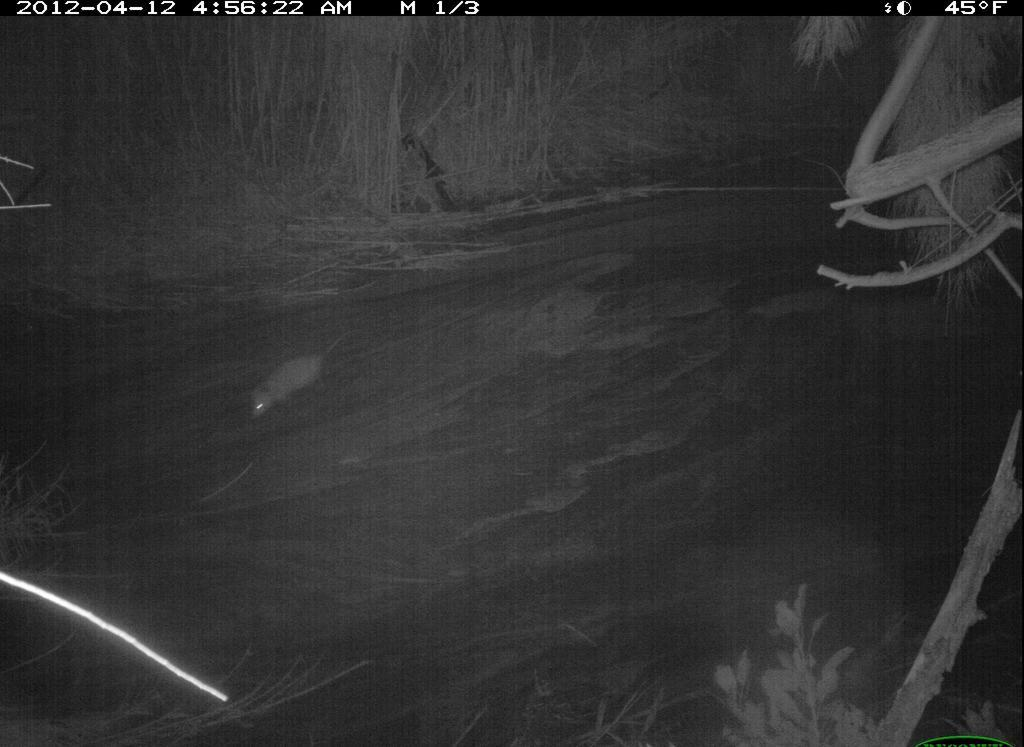opossum: (217, 317, 364, 447)
